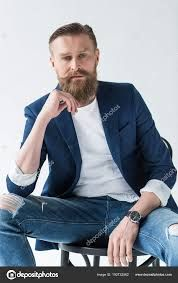no-mask: (41, 25, 109, 99)
